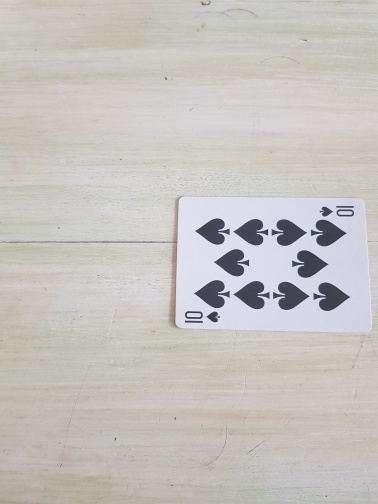ten: (174, 195, 373, 335)
